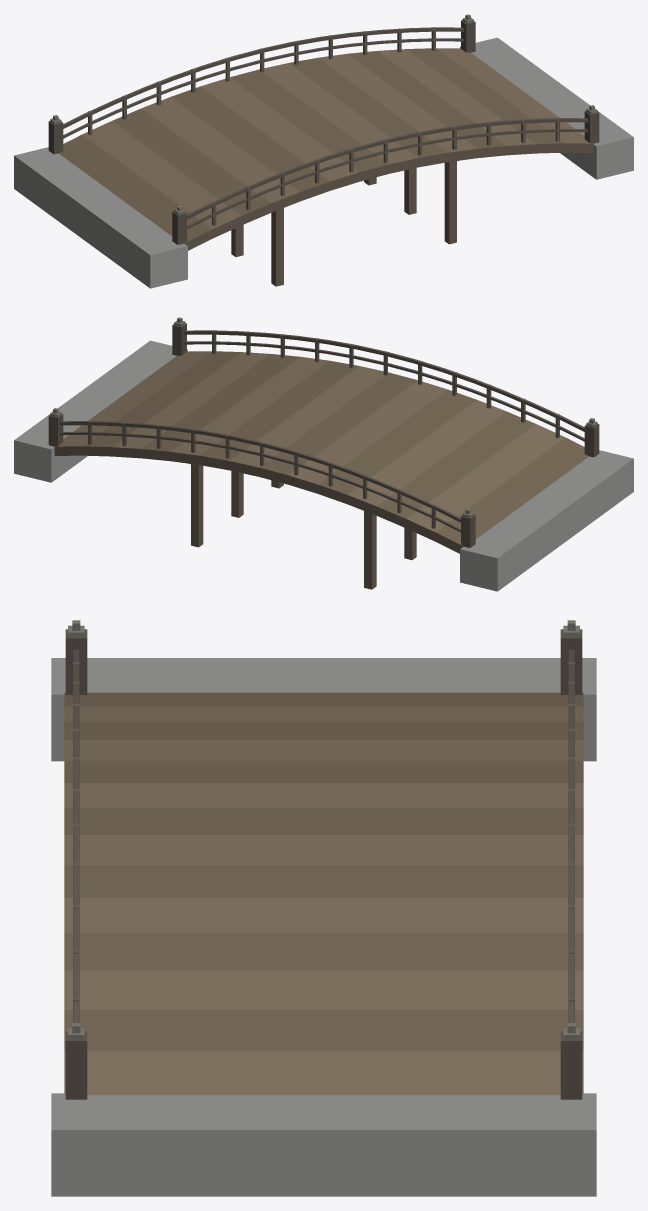
File: bridge_main.glb
3 renders of one model, top to bottom at view 1: azimuth 30°, elevation 25°; view 2: azimuth 150°, elevation 25°; view 3: azimuth 270°, elevation 25°, orthographic. The views are drawn at different scales.
Visible parts, largest first — view 1: bridge_main; view 2: bridge_main; view 3: bridge_main.
Part boxes in pixels (bbox=[...]): bridge_main: bbox=[14, 14, 633, 288]; bridge_main: bbox=[14, 317, 633, 591]; bridge_main: bbox=[51, 620, 596, 1196].
Size of the model in its own units: 25.8 by 7.09 by 12.6.
